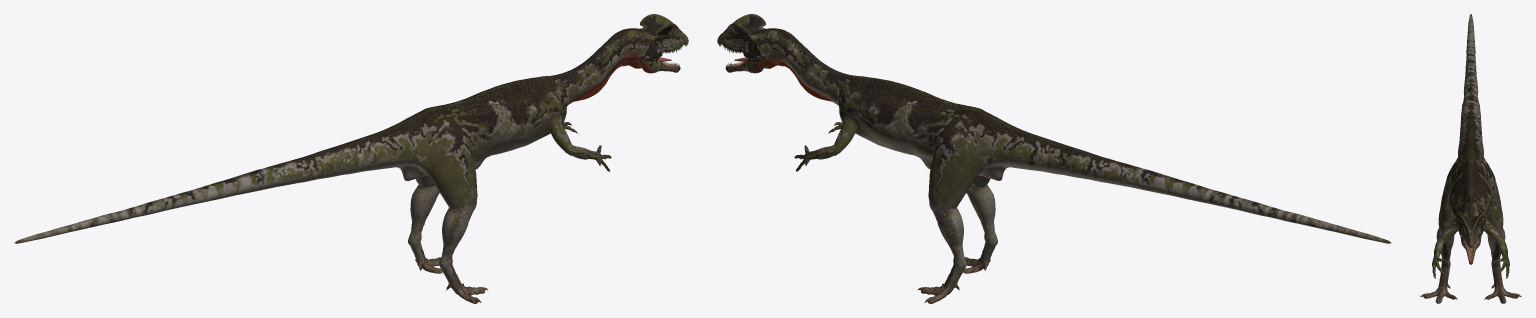
Rendered from dilophosaurus.glb.
3 views of the same model, side by side, from view 1: azimuth 30°, elevation 25°; view 2: azimuth 150°, elevation 25°; view 3: azimuth 270°, elevation 25° (orthographic). The views are drawn at different scales.
Parts seen in each view (by area): view 1: Animal; view 2: Animal; view 3: Animal.
Boxes of the visible parts, box(x1,y1,x2,y2) form: Animal: box(14, 14, 688, 303); Animal: box(717, 14, 1391, 303); Animal: box(1420, 14, 1521, 303).
Bounding box in the file's own units: 3.2 × 0.9594 × 0.5235.
3 materials, 2 textured.
